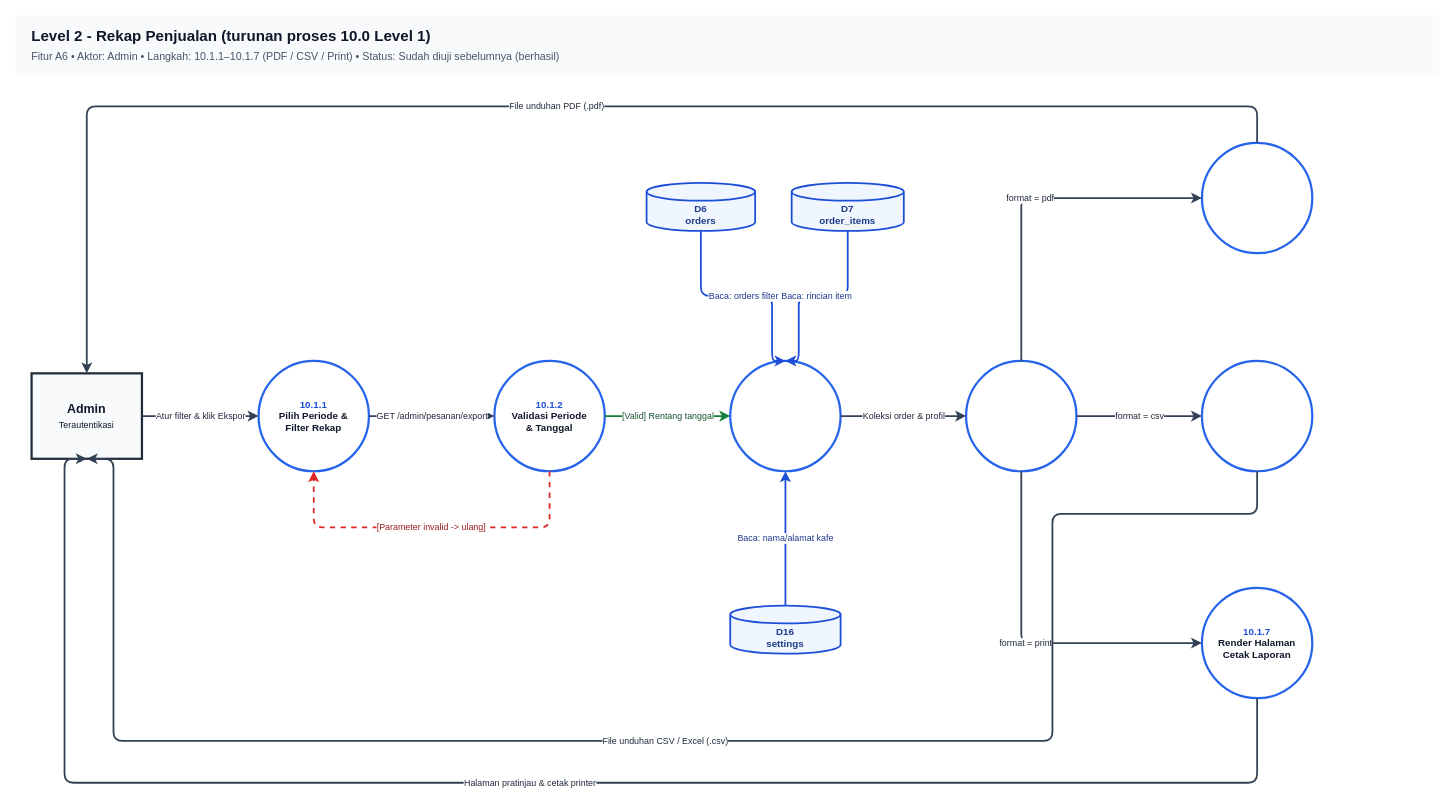
The diagram is 1454 pixels wide and 805 high, and some of its shapes have lost their labels. The centre of each missing label's shape, as x and y in pixels:
"10.1.3 Query Order, Item & Info Kafe" belongs at point (785, 415).
"10.1.4 Hitung Metrik Omzet & Rincian" belongs at point (1021, 415).
"10.1.5 Buat & Unduh File PDF Rekap" belongs at point (1256, 197).
"10.1.6 Susun & Unduh File CSV Excel" belongs at point (1256, 415).
